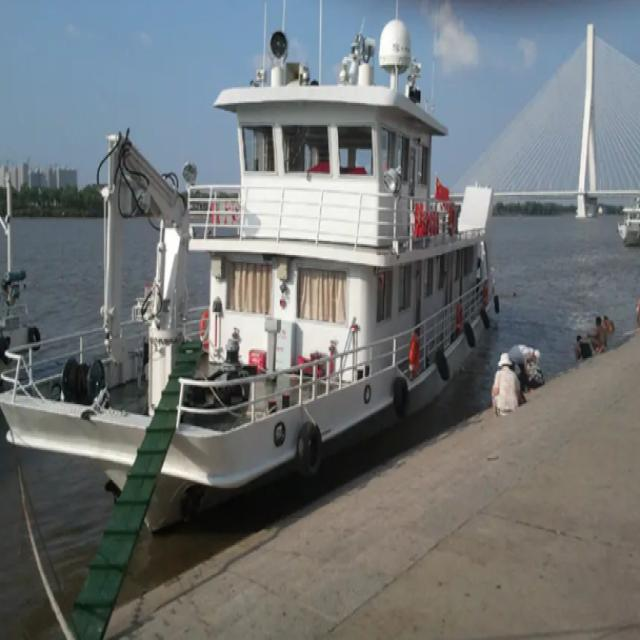houseboat: (0, 32, 504, 494)
